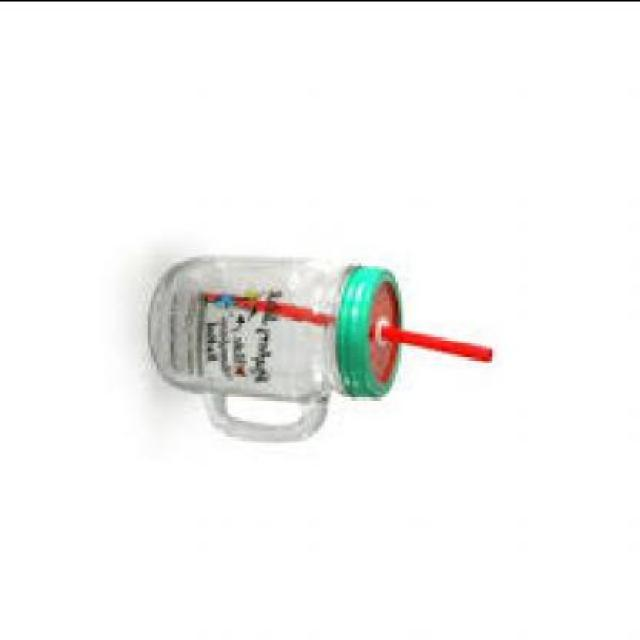GLASS: (153, 256, 350, 441)
METAL: (339, 267, 404, 398)
